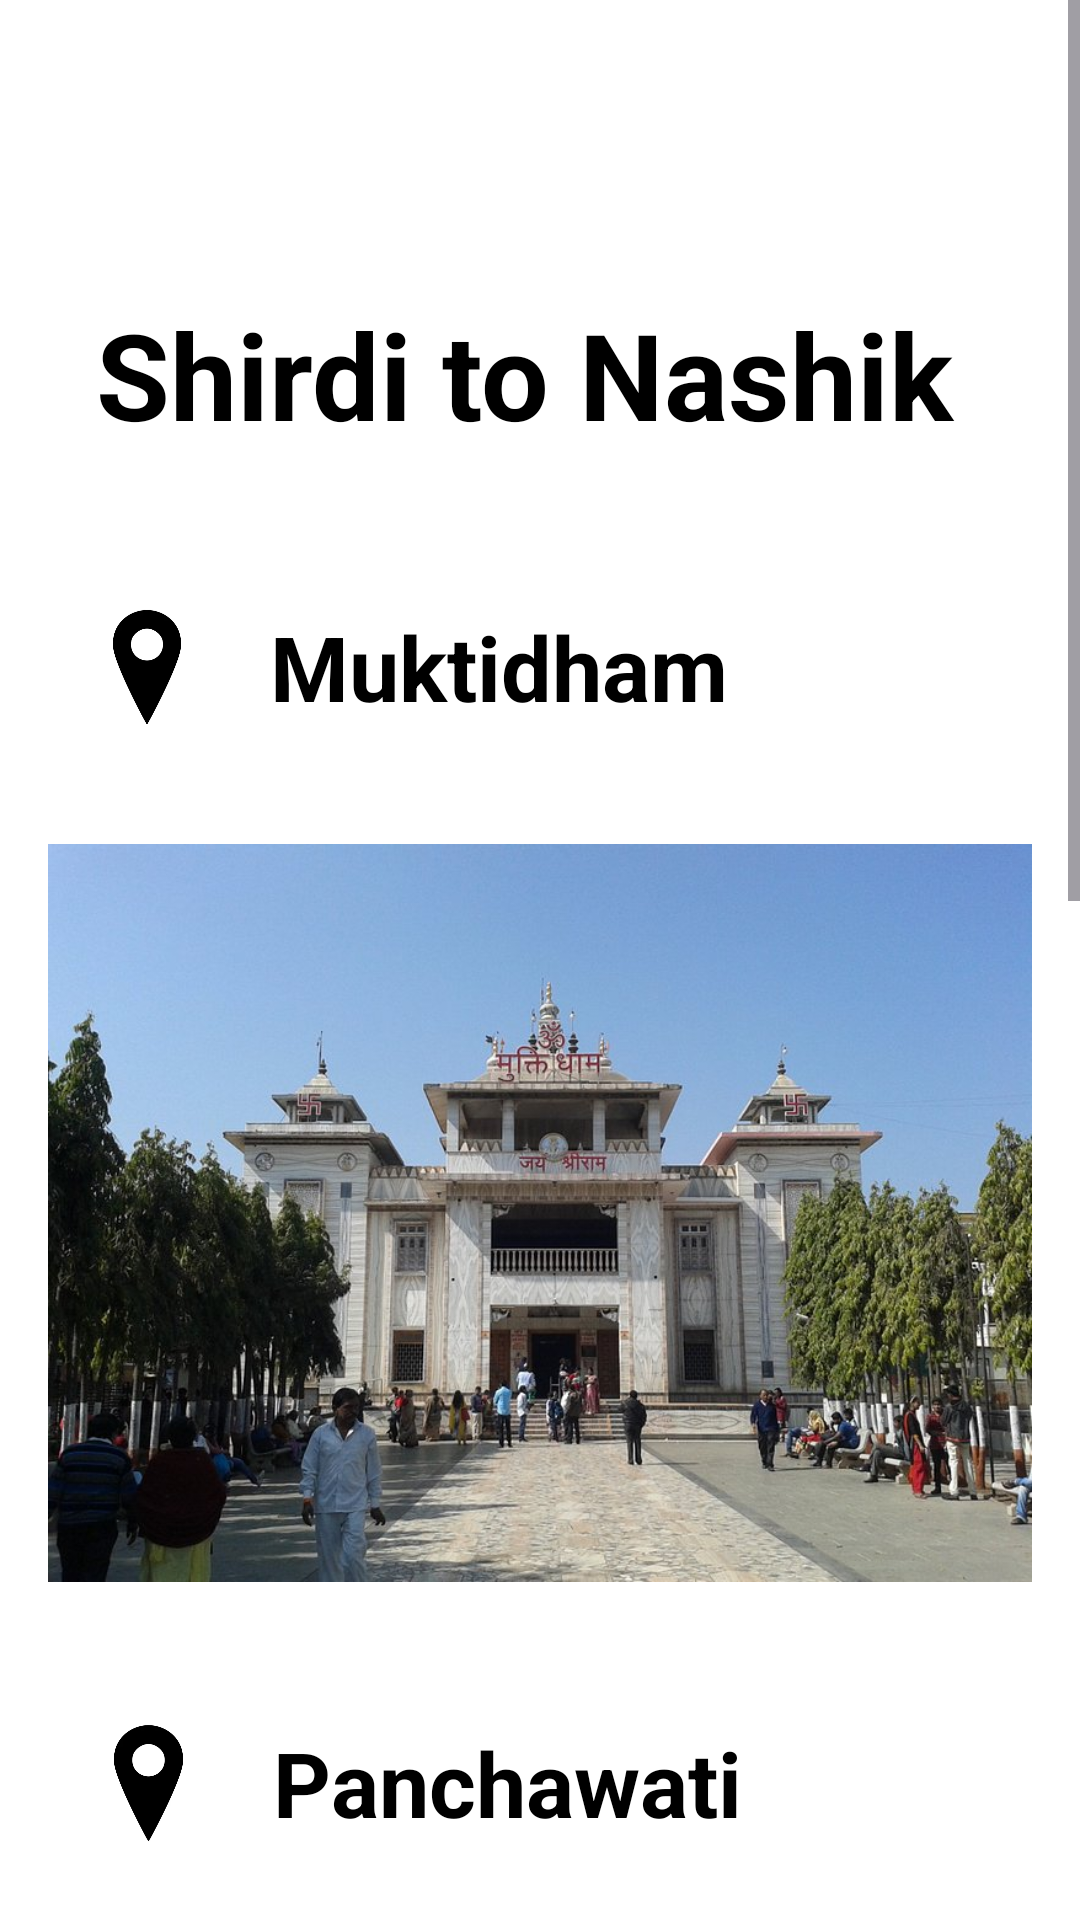

Icon click points for this 1080px x 1920px phone screenshot, format (x=x, y=y):
location: (x=147, y=667), (x=148, y=1783)
